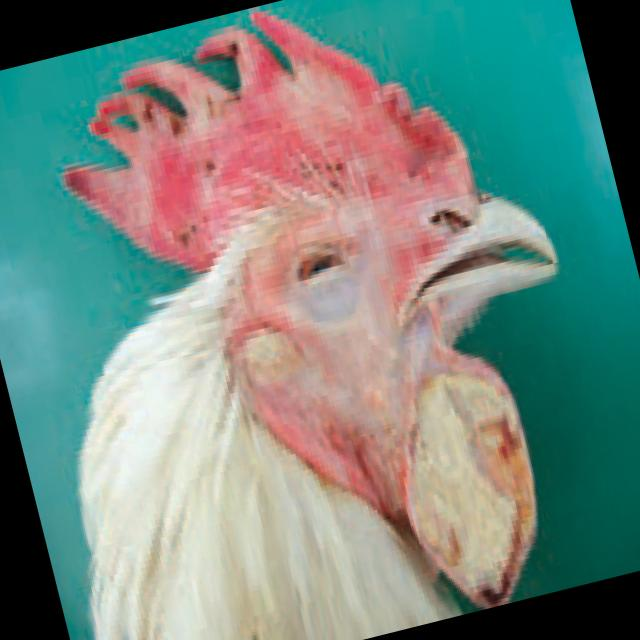Fowl cholera: (10, 0, 640, 640)
